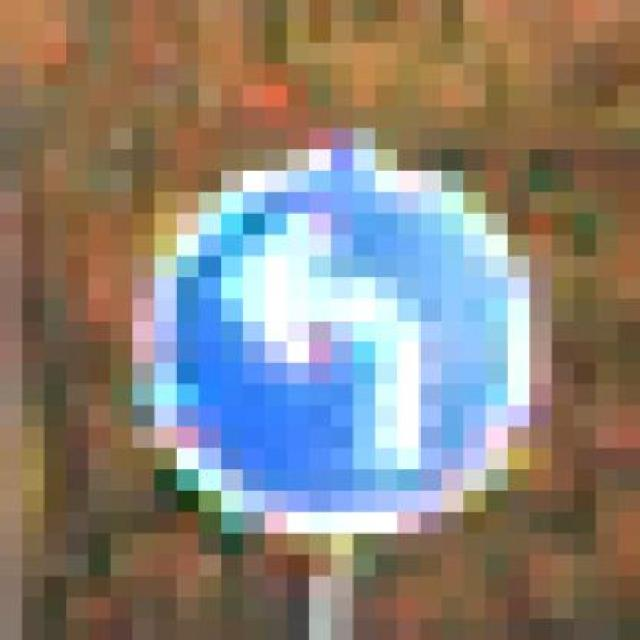Turn left ahead: (110, 107, 552, 555)
